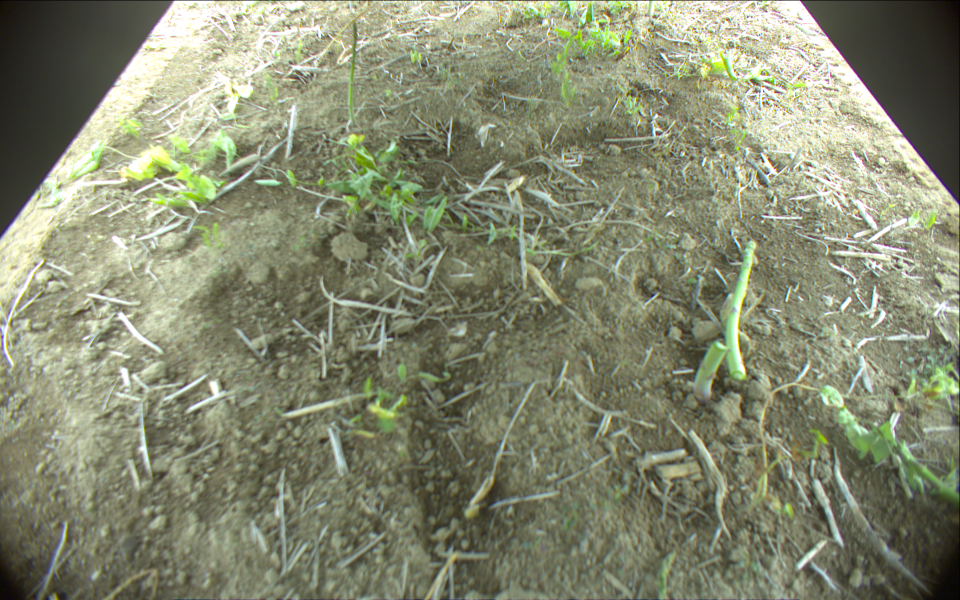aspa: (725, 237, 757, 379), (692, 340, 727, 395), (347, 21, 359, 127), (647, 1, 654, 18)
